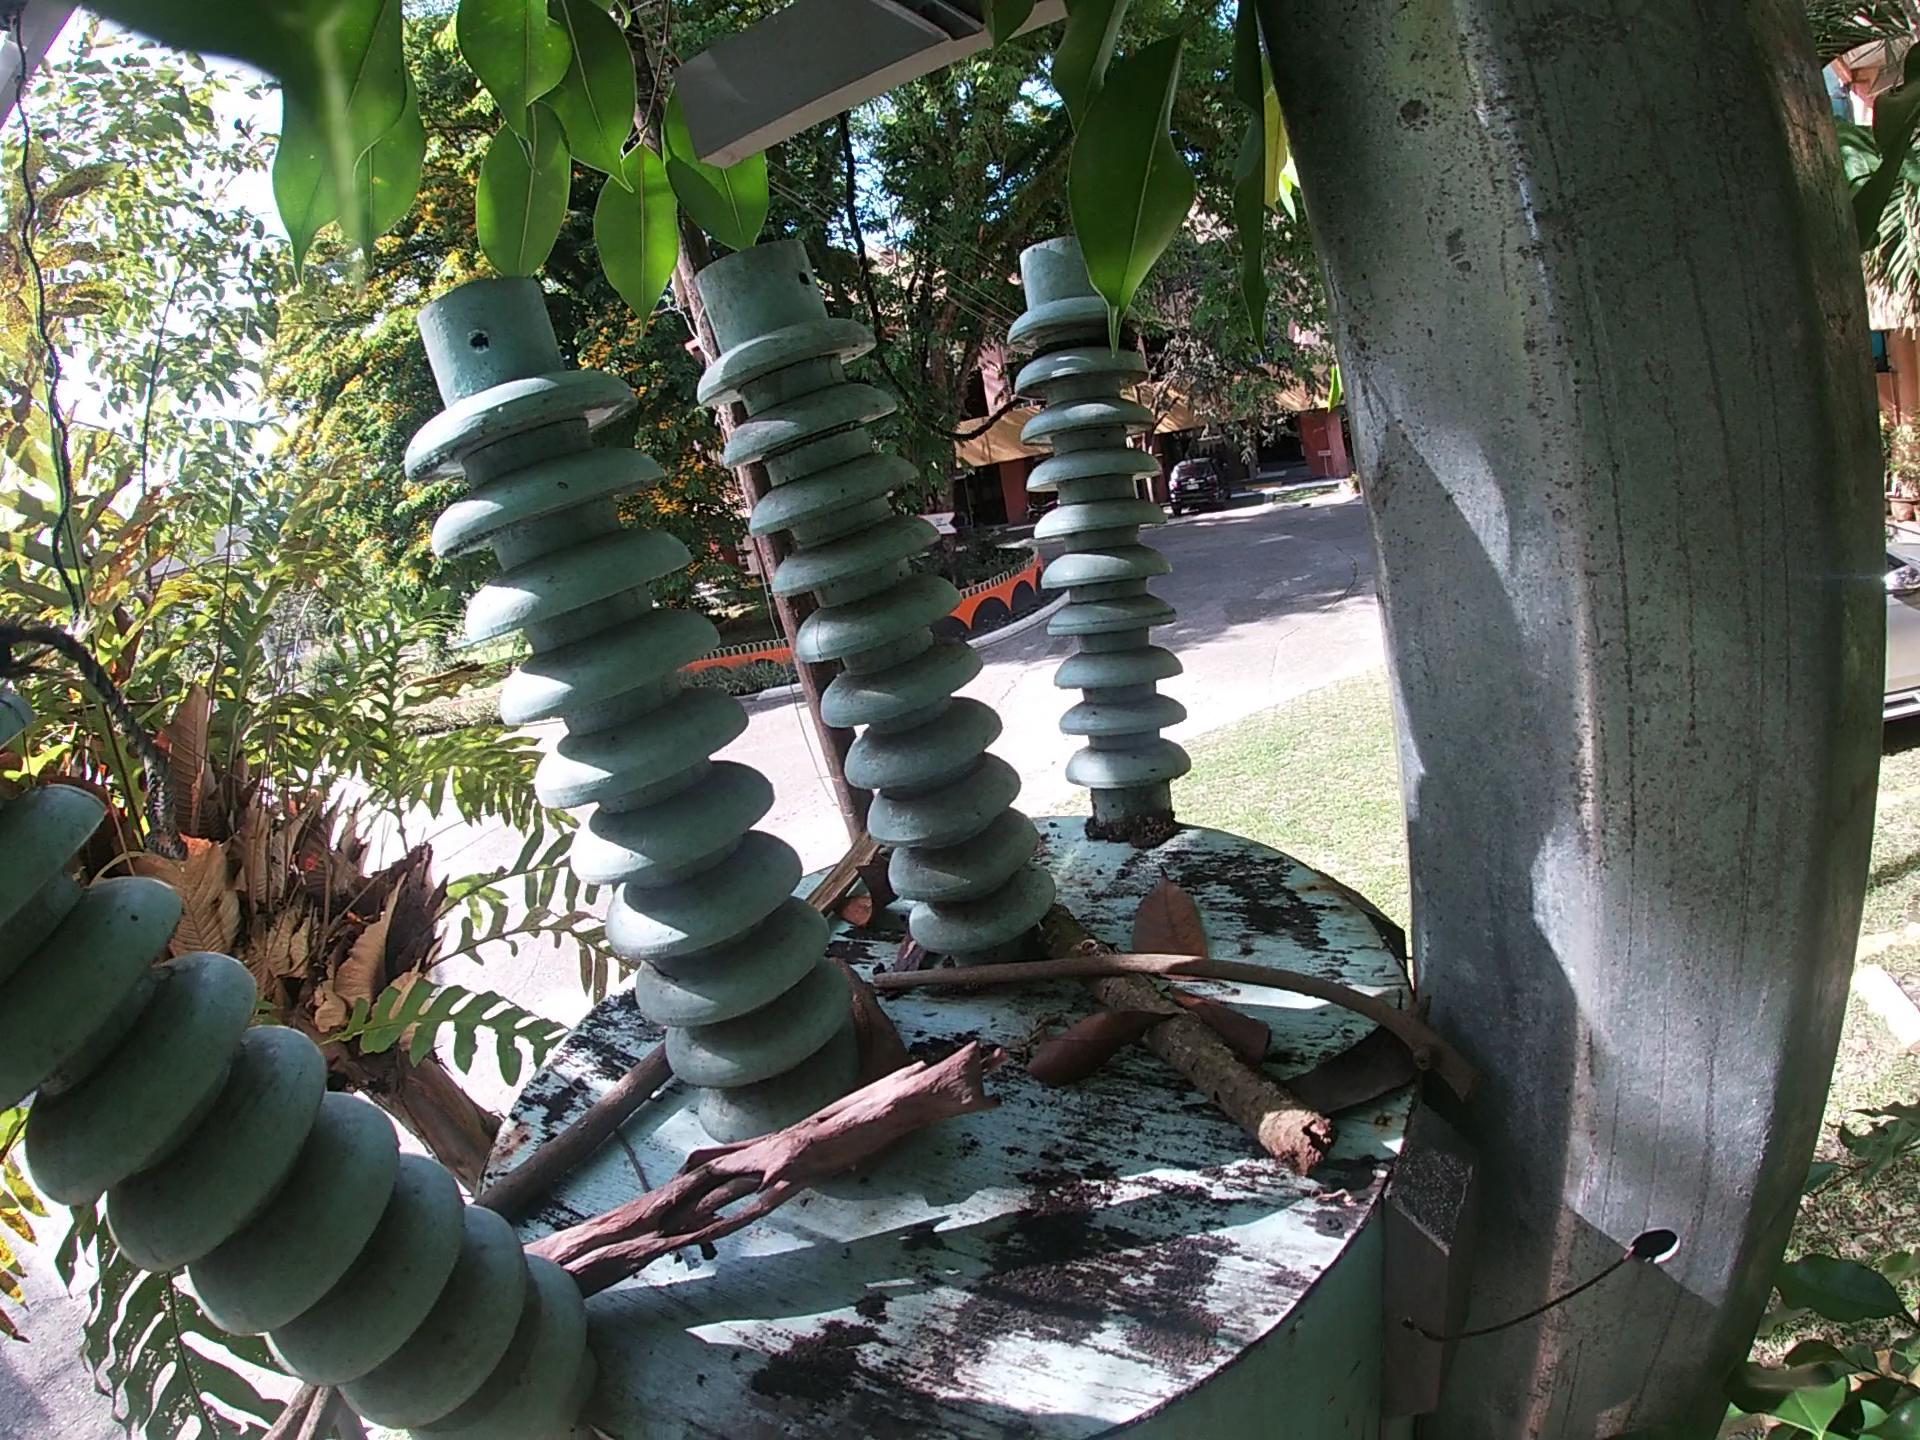leaf: (1277, 985, 1423, 1124), (1017, 998, 1191, 1094), (1128, 862, 1209, 973), (1181, 985, 1277, 1075)
mahogany fruit: (835, 959, 921, 1178), (828, 850, 901, 939)
tree branch: (516, 1029, 1008, 1301), (866, 950, 1498, 1109), (1036, 905, 1349, 1193), (469, 1032, 677, 1231), (803, 821, 883, 920)
